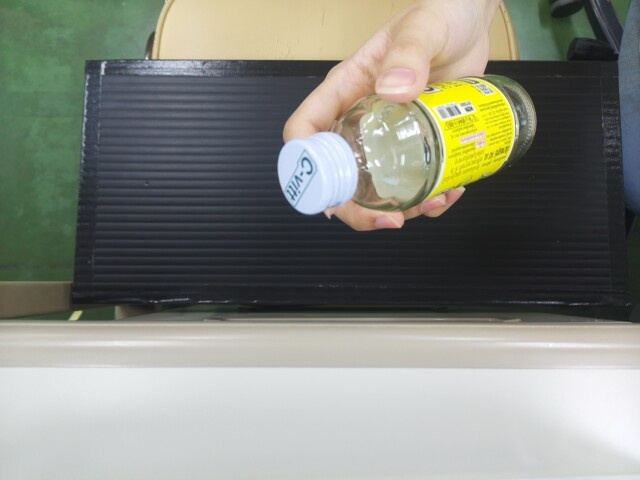glass_bottle: (273, 79, 538, 206)
